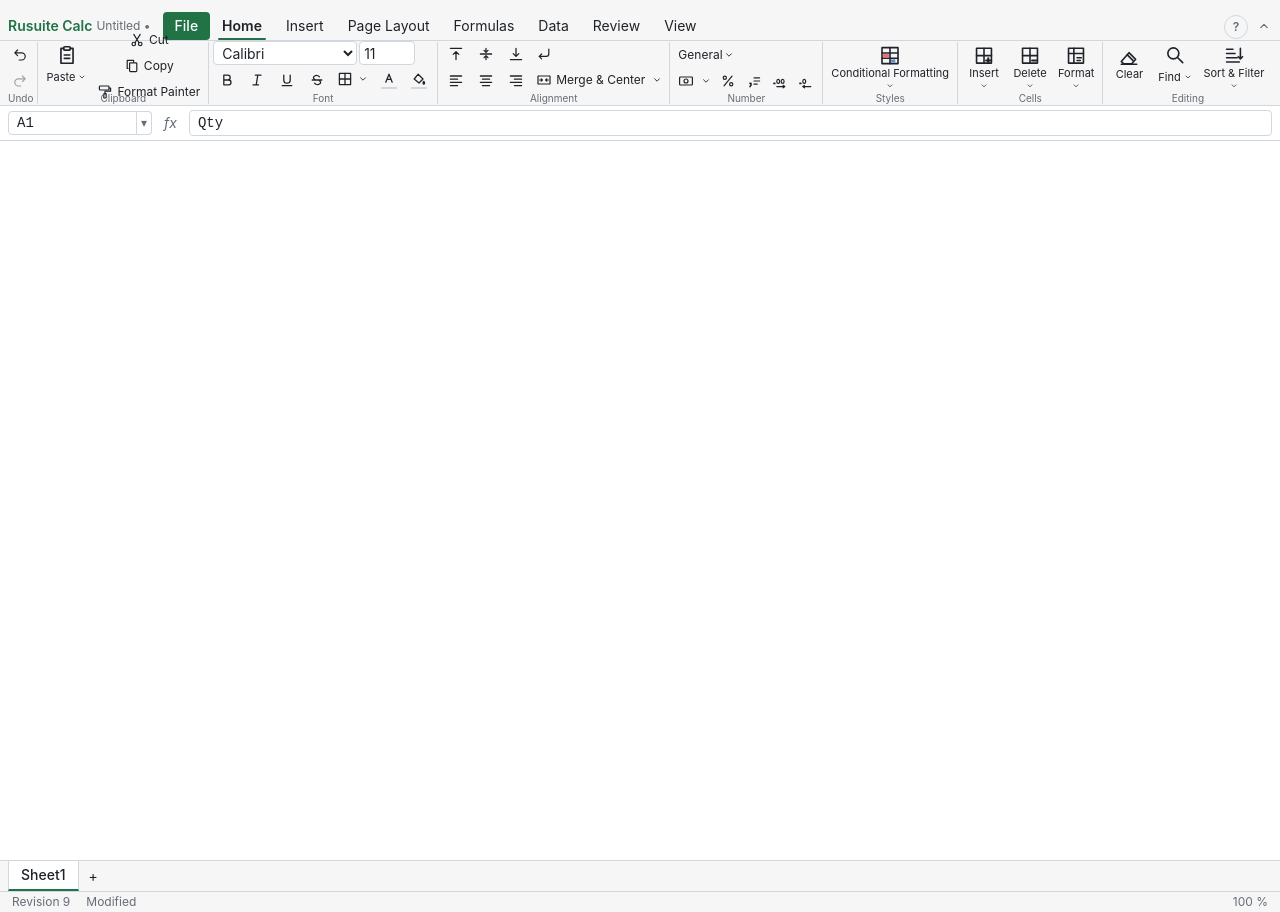
Test case: Name Box › navigates to references and names, and lists the names
Check: the tab "Sheet1" is shown, box x1=8 y1=861 x2=78 y2=891
Check: the button named "Bold" is enabled, box x1=213 y1=68 x2=241 y2=92
Replace the text in the dropdown with test id "cell-address" with "c5" at (72, 123), box x1=8 y1=111 x2=137 y2=135
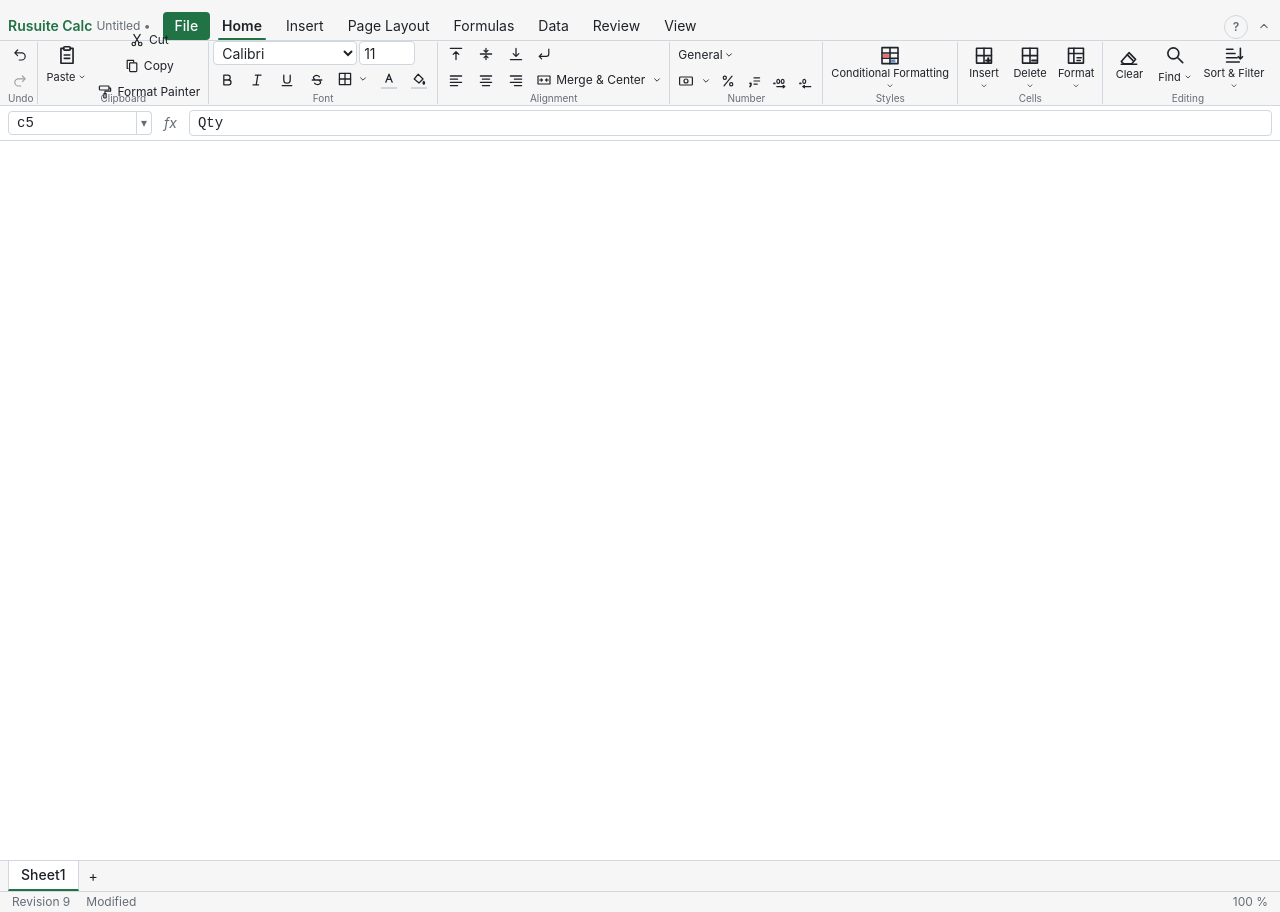
Press Enter in the dropdown with test id "cell-address", box x1=8 y1=111 x2=137 y2=135
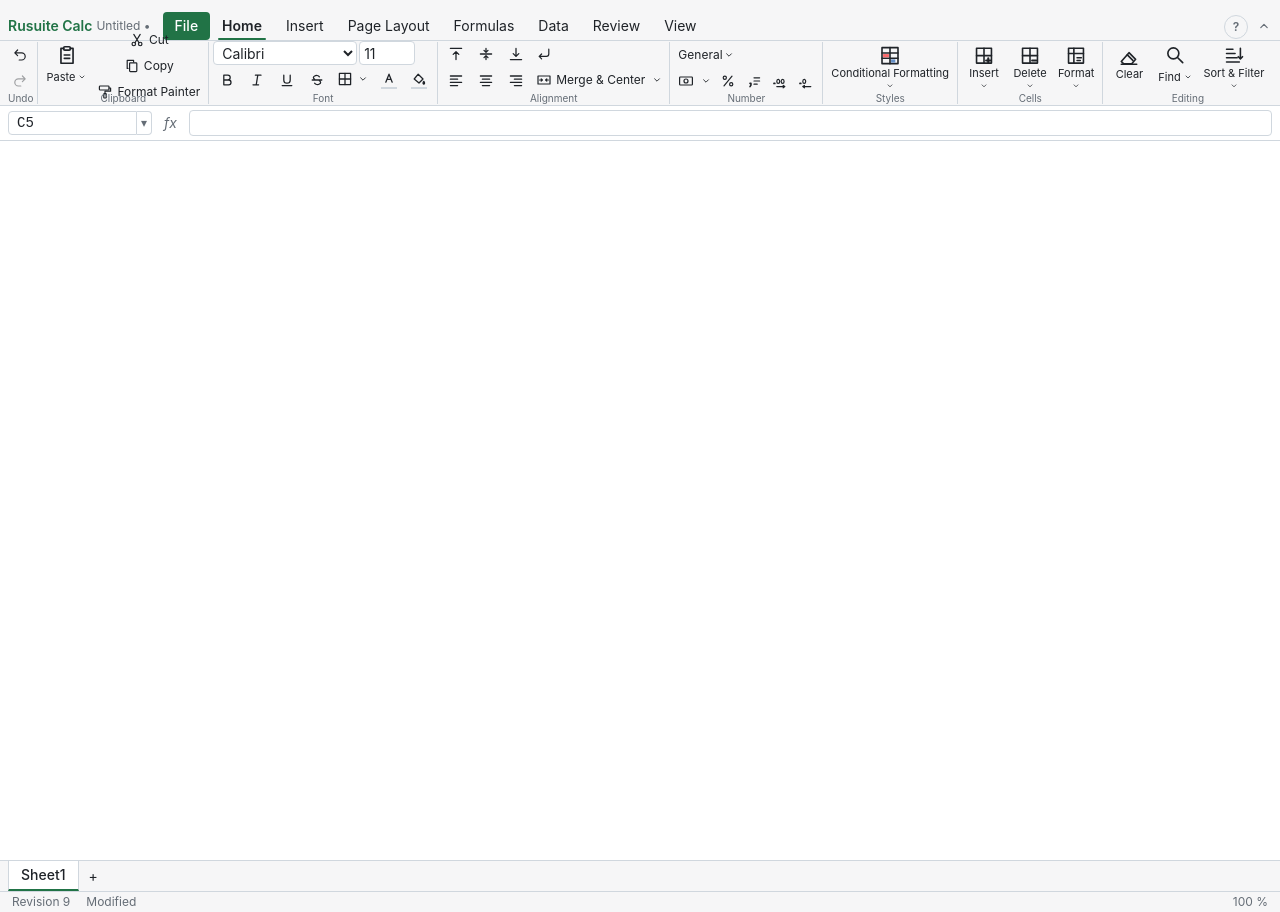
Click the button named "Defined names" at (144, 123), box x1=137 y1=111 x2=152 y2=135
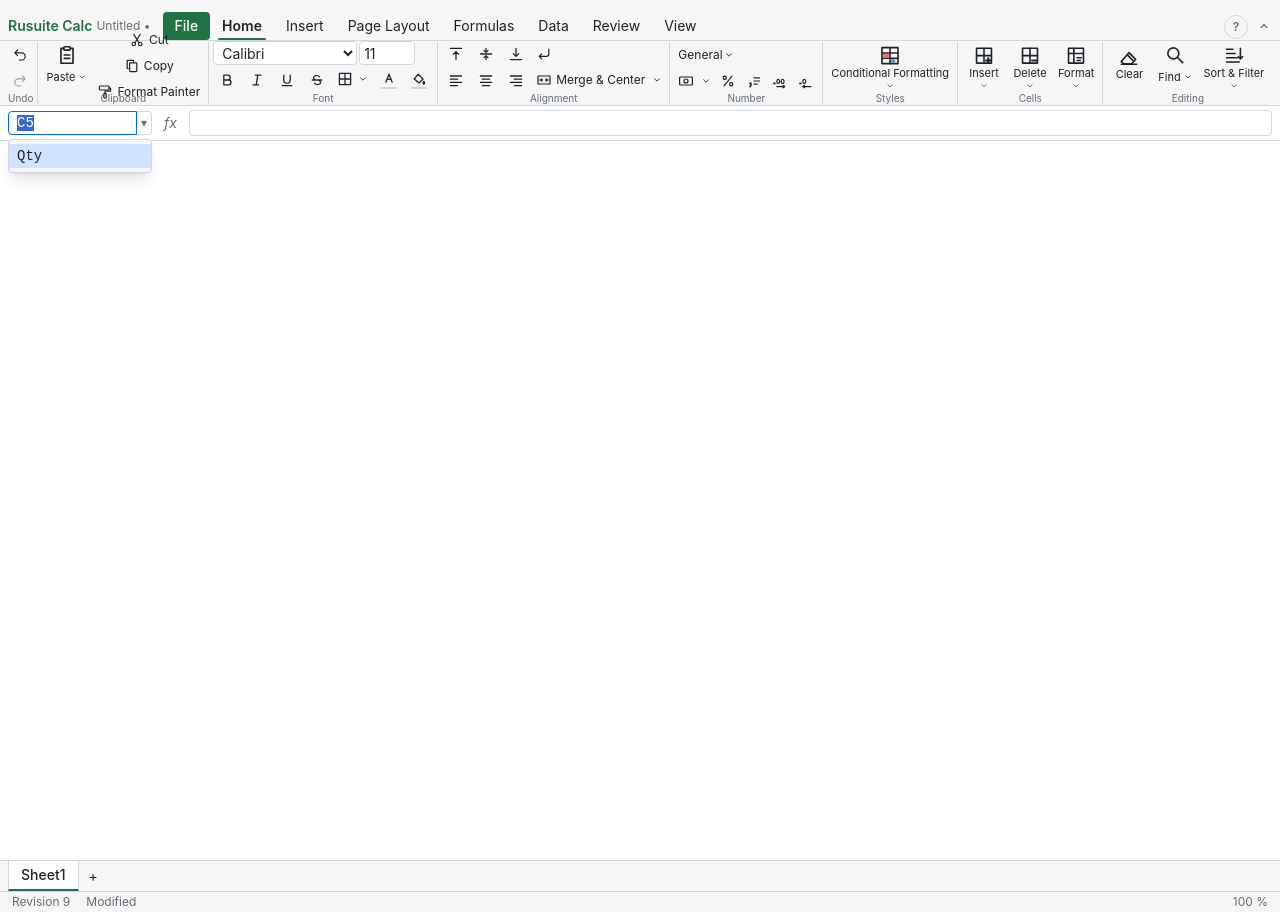
Click the option "Qty" at (80, 156), box x1=9 y1=144 x2=151 y2=168
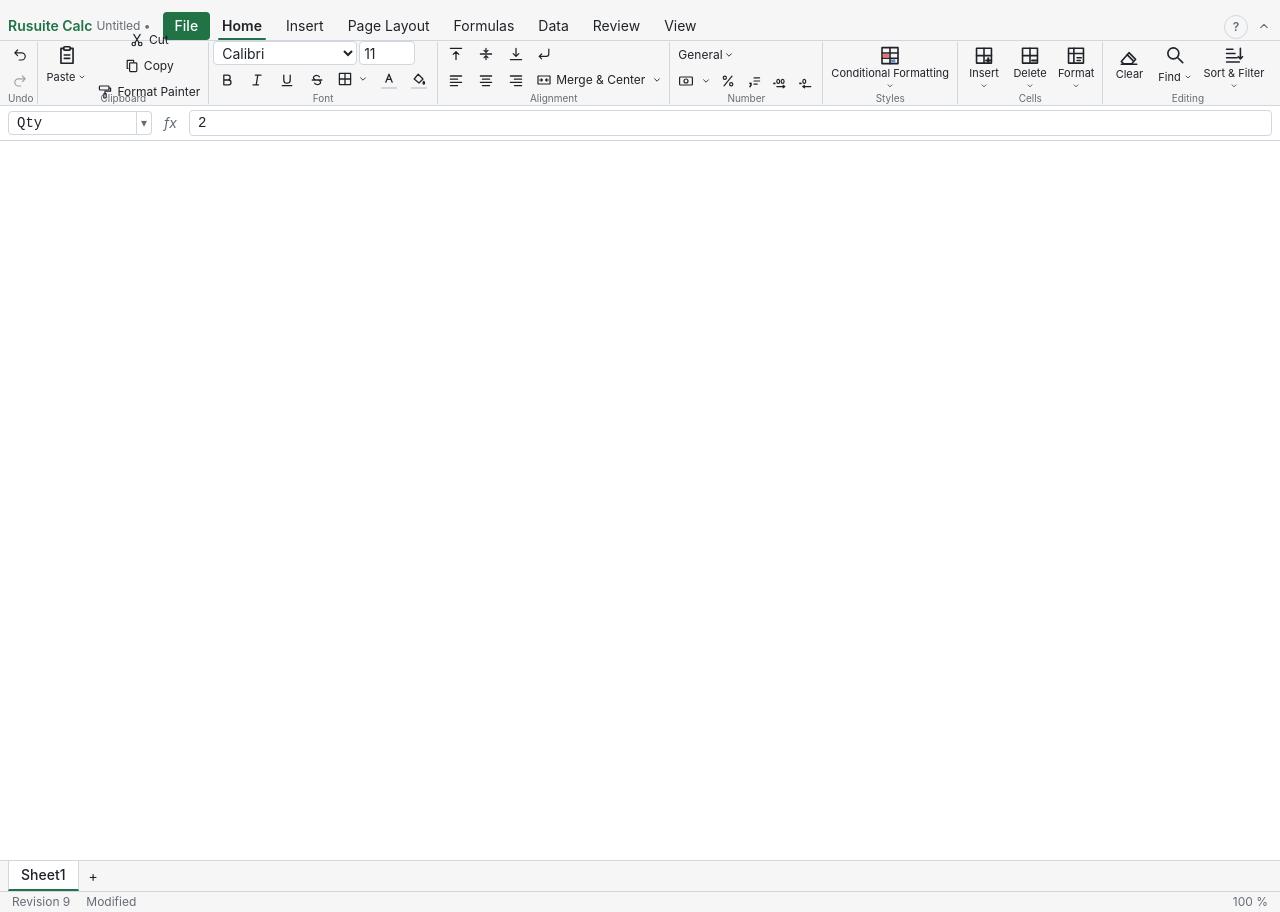
Check: the dropdown with test id "cell-address" holds "Qty", box x1=8 y1=111 x2=137 y2=135
